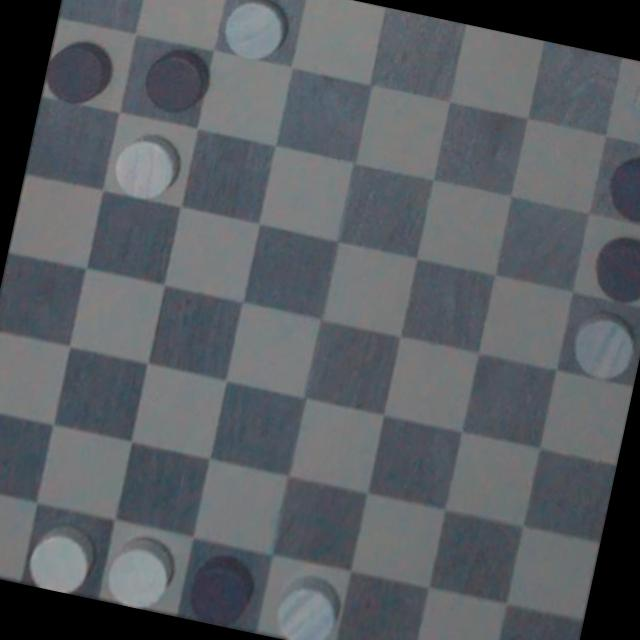BOARD: (0, 0, 640, 640)
black: (39, 29, 125, 118), (178, 546, 263, 632), (136, 37, 219, 124), (583, 223, 640, 308), (604, 147, 640, 227)
white: (105, 124, 192, 209), (19, 514, 103, 598), (559, 304, 640, 390), (100, 532, 178, 614), (269, 571, 352, 640), (218, 0, 299, 70), (613, 58, 640, 145)
